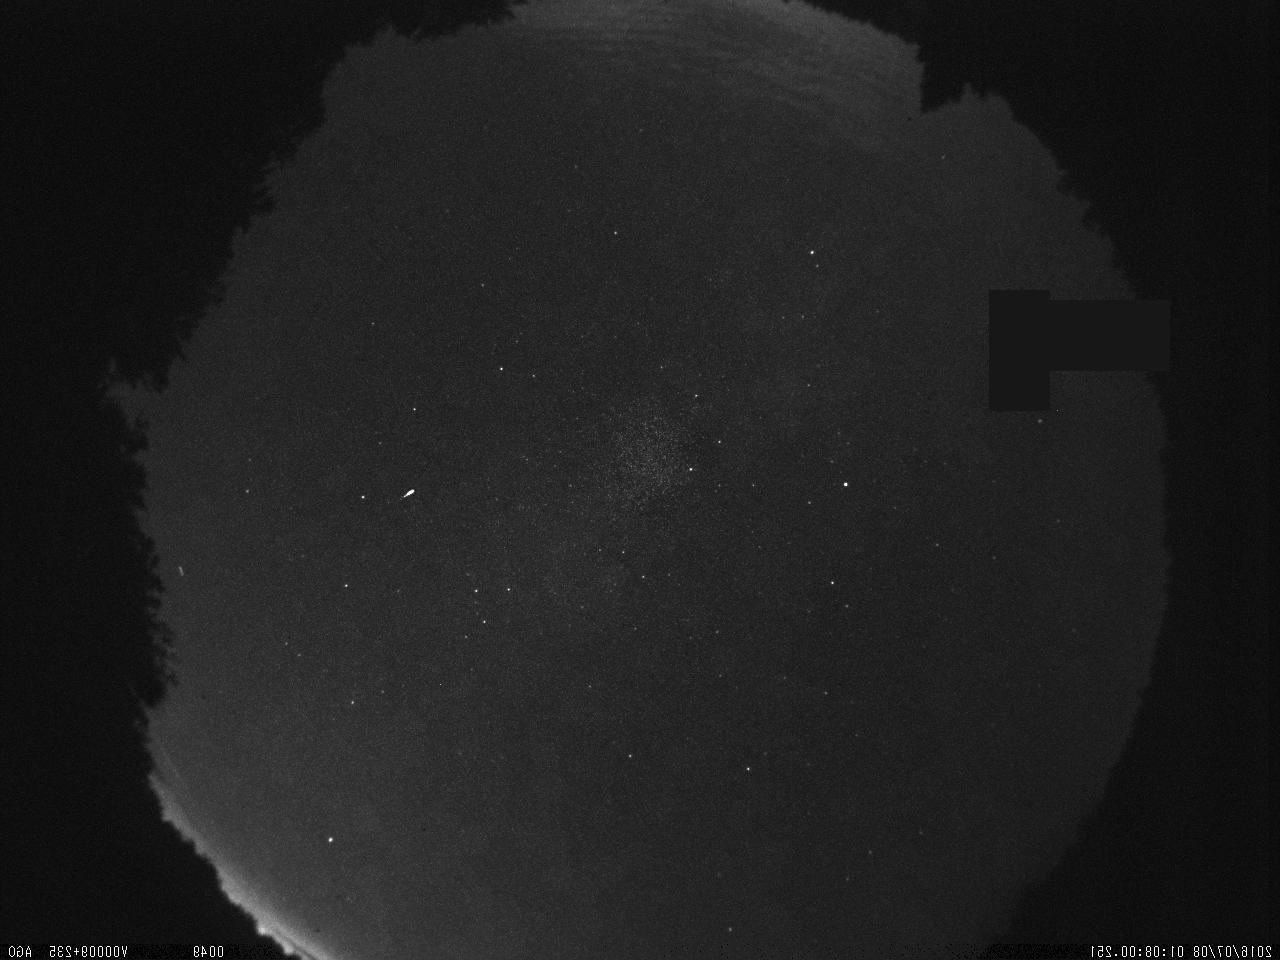meteor: (393, 482, 423, 505)
